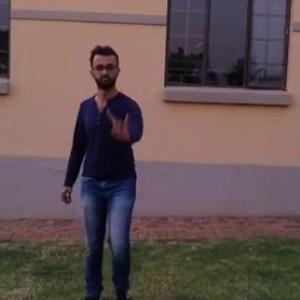takeoff-hand: (100, 99, 138, 145)
